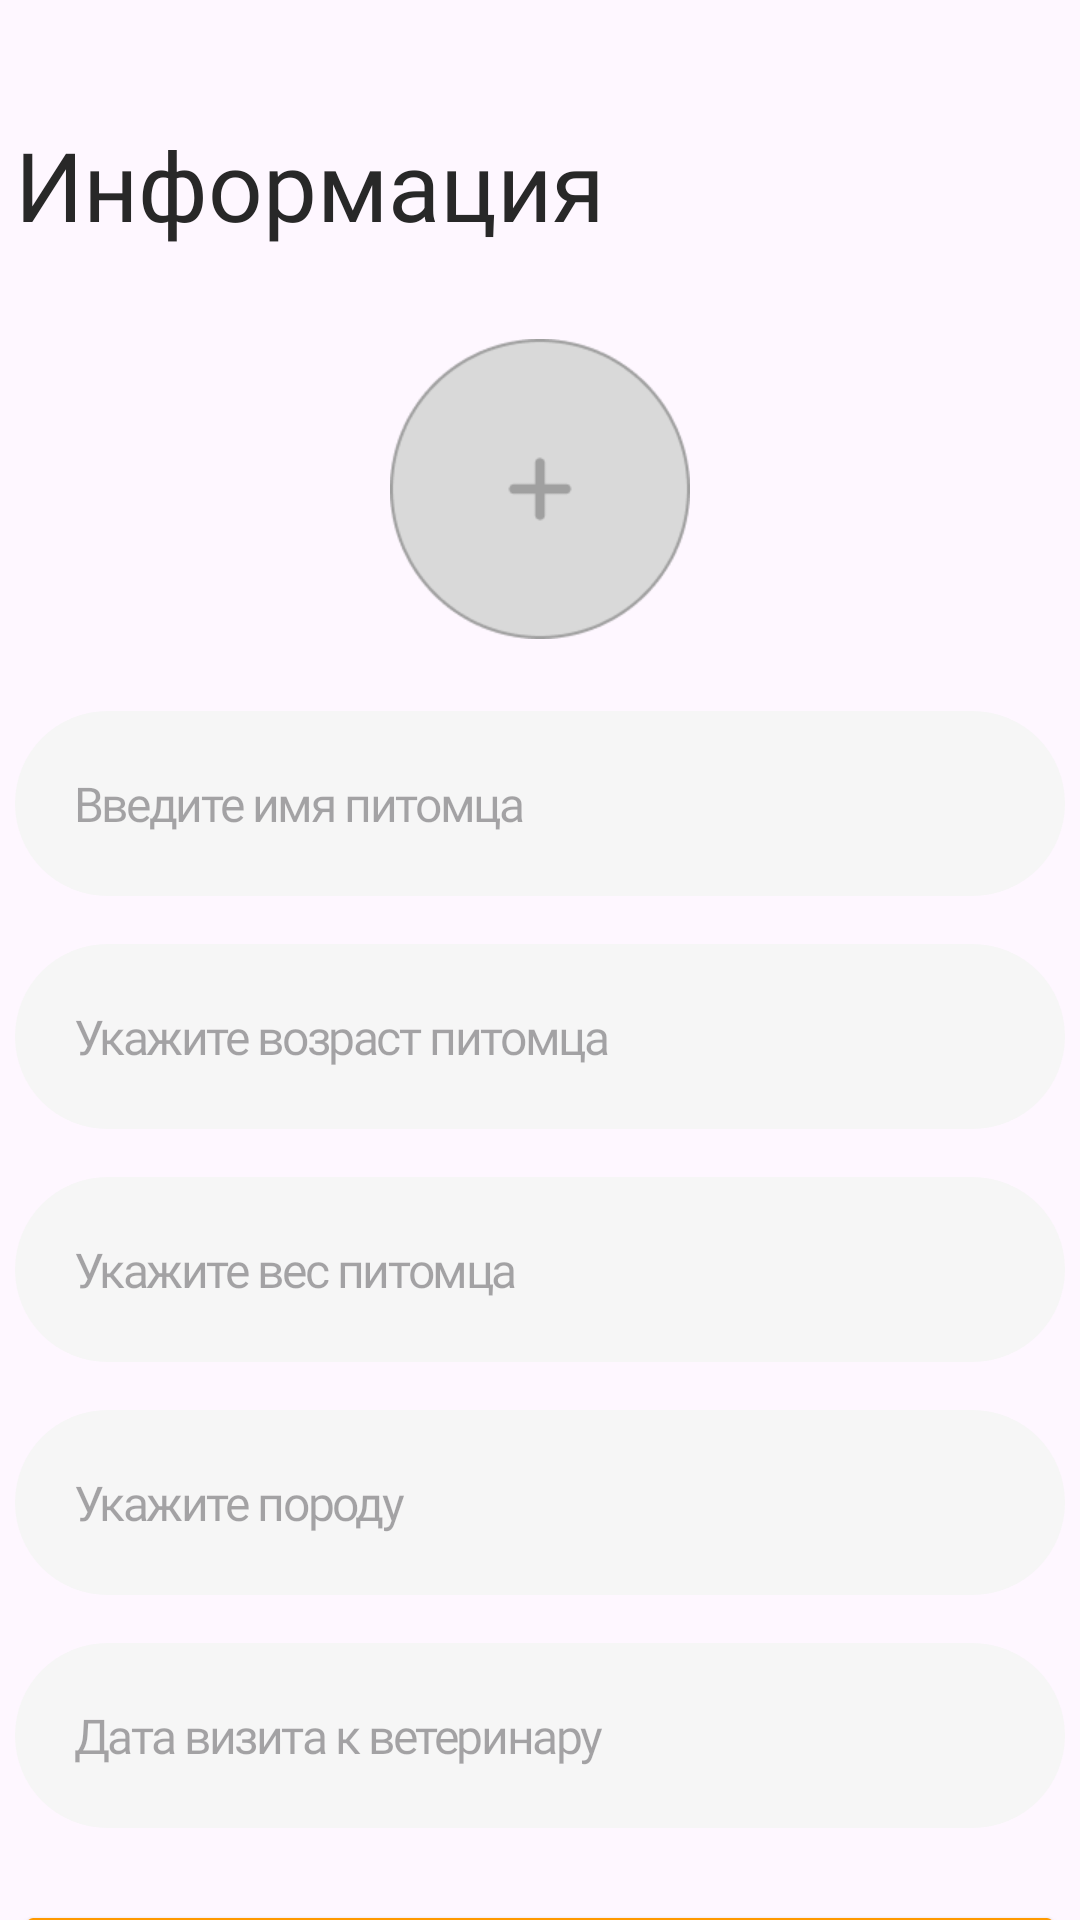

Named icons in this screenshot (1080×1920) and their centers, point (x, y):
add: point (540, 489)
